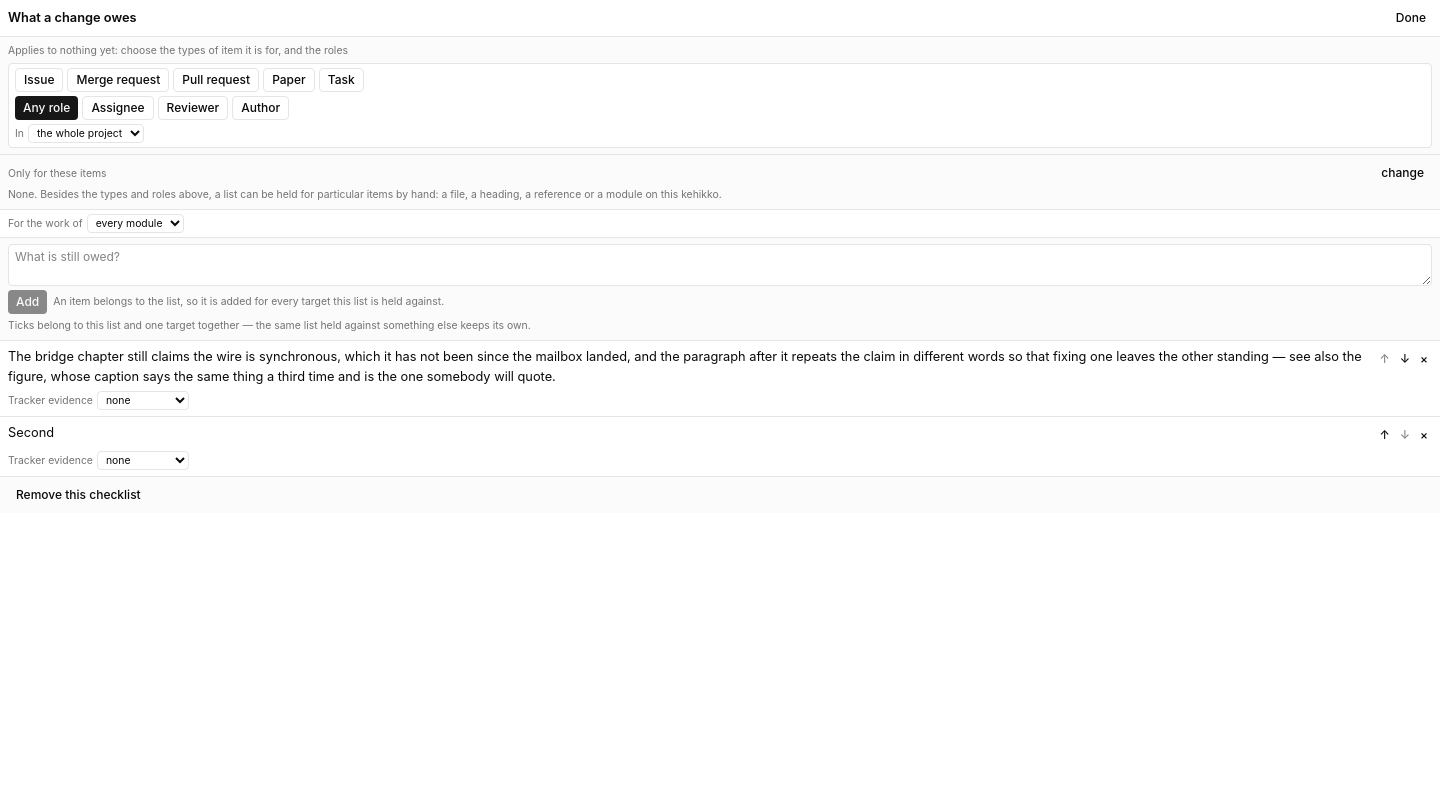
Scenario: the edit page: what a list says, and what it is held against › with no epic open offers no paper at all, and says so
This screenshot has width=1440, height=810.
Click the button "change" at [1403, 173], box [1373,161,1432,185]
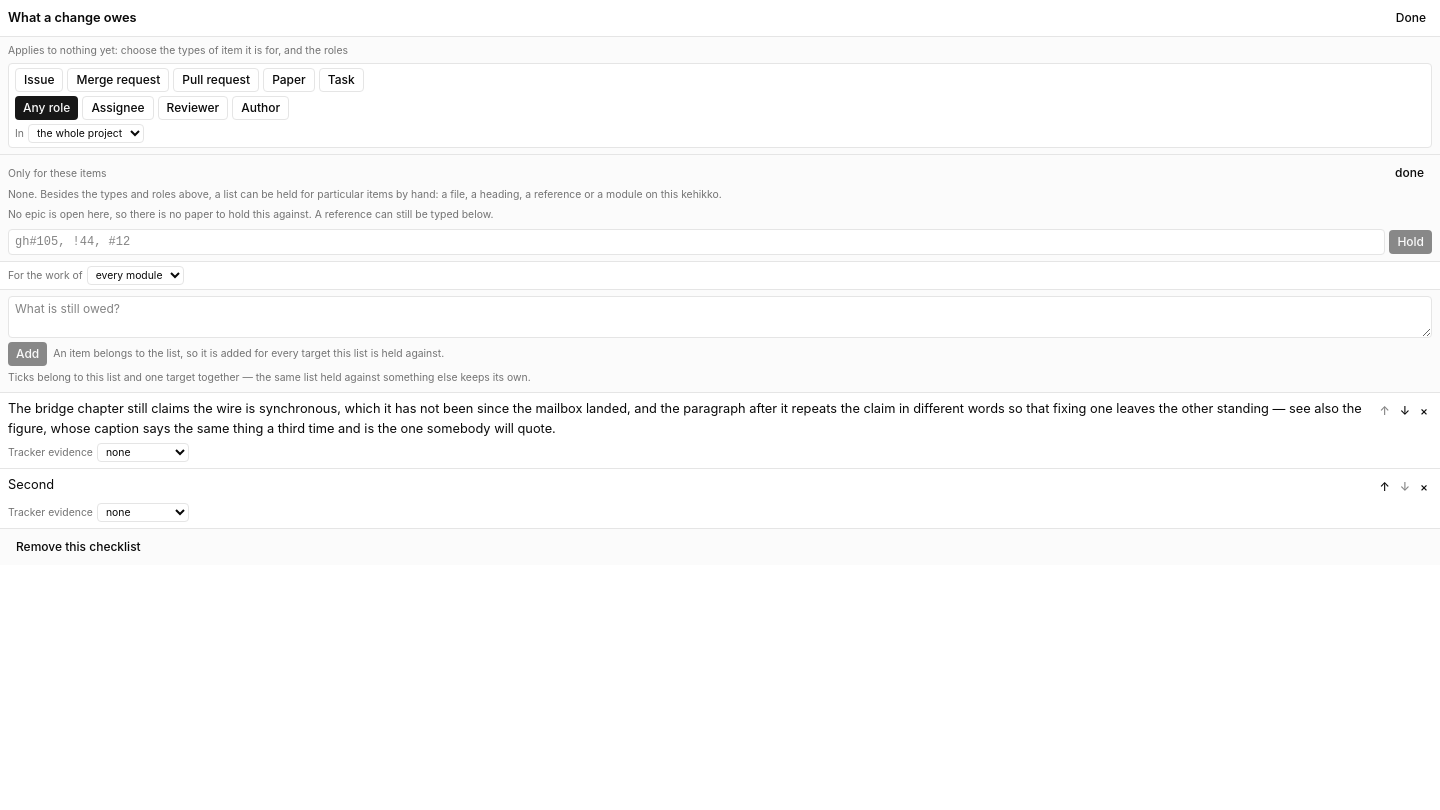
Expected: the field with placeholder "gh#105, !44, #12" is shown, [8,229,1385,255]
